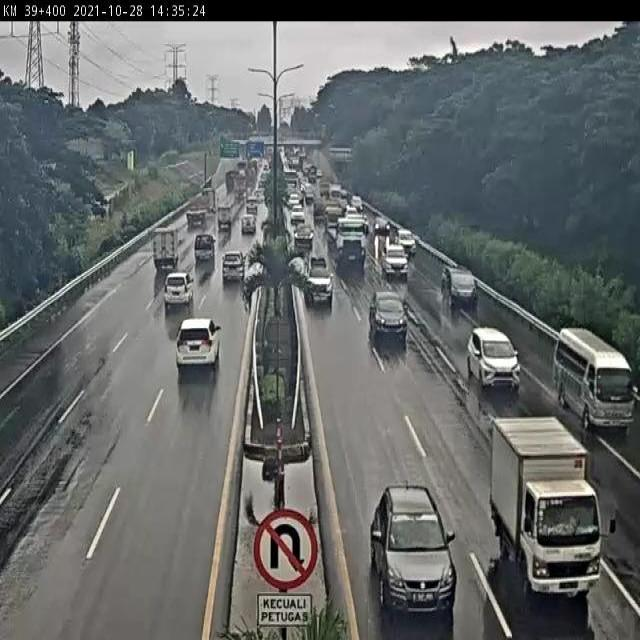big truck: (326, 213, 371, 276)
car: (359, 481, 472, 620), (459, 321, 528, 399), (173, 312, 227, 373), (363, 282, 411, 346), (436, 254, 486, 314), (298, 264, 334, 317), (159, 272, 199, 309), (222, 242, 250, 290), (378, 240, 411, 279), (289, 221, 318, 251), (394, 226, 418, 262), (192, 228, 216, 264), (214, 200, 236, 236), (238, 212, 257, 240), (371, 212, 392, 237)
small truck: (481, 415, 604, 604), (549, 316, 640, 443), (151, 225, 183, 271)
